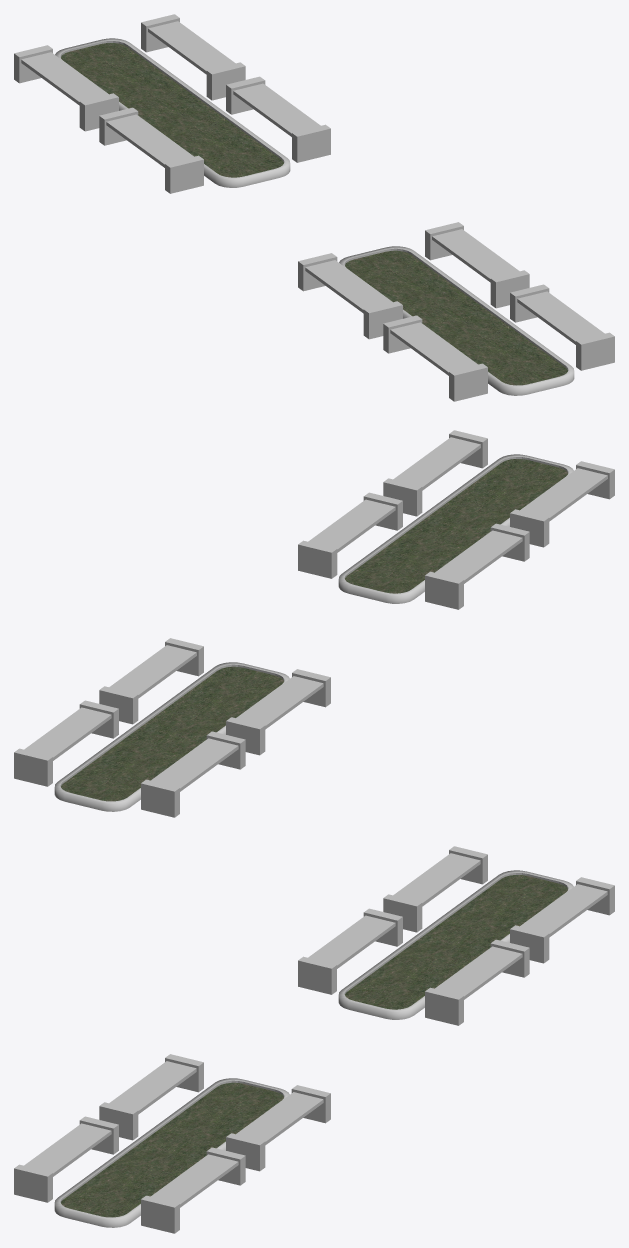
File: Park-03.fbx
The picture shows the model from 3 angles, top to bottom: view 1: azimuth 30°, elevation 25°; view 2: azimuth 150°, elevation 25°; view 3: azimuth 330°, elevation 25°; orthographic projection.
Visible parts, largest first — view 1: Park-03, Park-03-Grass; view 2: Park-03, Park-03-Grass; view 3: Park-03, Park-03-Grass.
Part boxes in pixels (<box>): Park-03: <box>14,14,614,401</box>; Park-03-Grass: <box>61,43,567,385</box>; Park-03: <box>14,430,614,817</box>; Park-03-Grass: <box>61,459,567,801</box>; Park-03: <box>14,846,614,1233</box>; Park-03-Grass: <box>61,875,567,1217</box>.
Size of what is drawn, in the model's own units: 3.27 by 0.5085 by 16.28.
